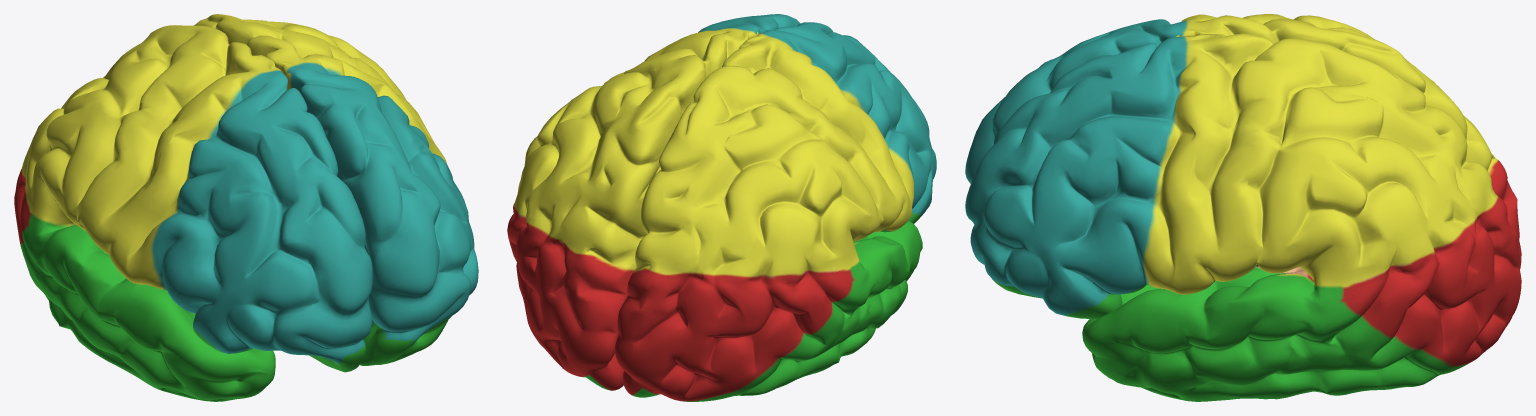
Rendered from lobes.glb.
3 views of the same model, side by side, from view 1: azimuth 30°, elevation 25°; view 2: azimuth 150°, elevation 25°; view 3: azimuth 270°, elevation 25° (orthographic). The views are drawn at different scales.
Visible parts, largest first — view 1: Brain_Part_06.001, Brain_Part_04.001; view 2: Brain_Part_06.001, Brain_Part_04.001; view 3: Brain_Part_04.001, Brain_Part_06.001.
Part boxes in pixels (x1,y1,x2,y2): Brain_Part_06.001: [14, 25, 372, 401]; Brain_Part_04.001: [194, 14, 478, 365]; Brain_Part_06.001: [614, 22, 936, 401]; Brain_Part_04.001: [507, 14, 800, 390]; Brain_Part_04.001: [965, 33, 1521, 401]; Brain_Part_06.001: [965, 14, 1521, 269].
Size of the model in its own units: 0.0106 by 0.00837 by 0.0132.
Materials: 1 (1 with a texture image).
